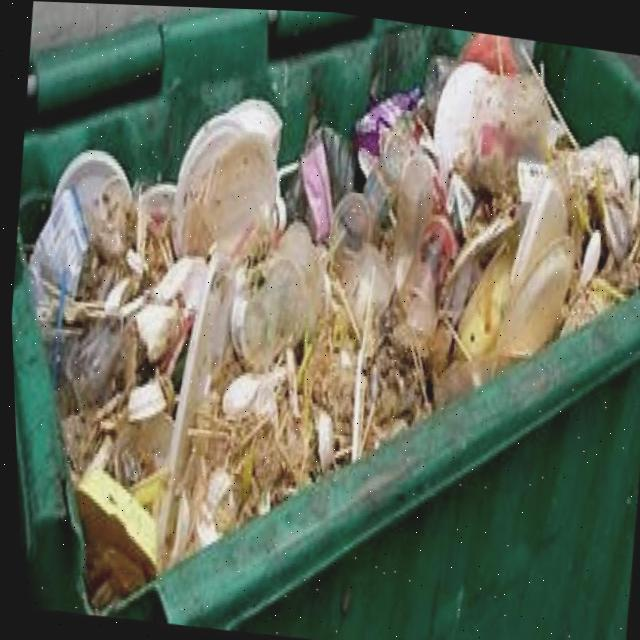Garbage: (27, 28, 640, 604)
